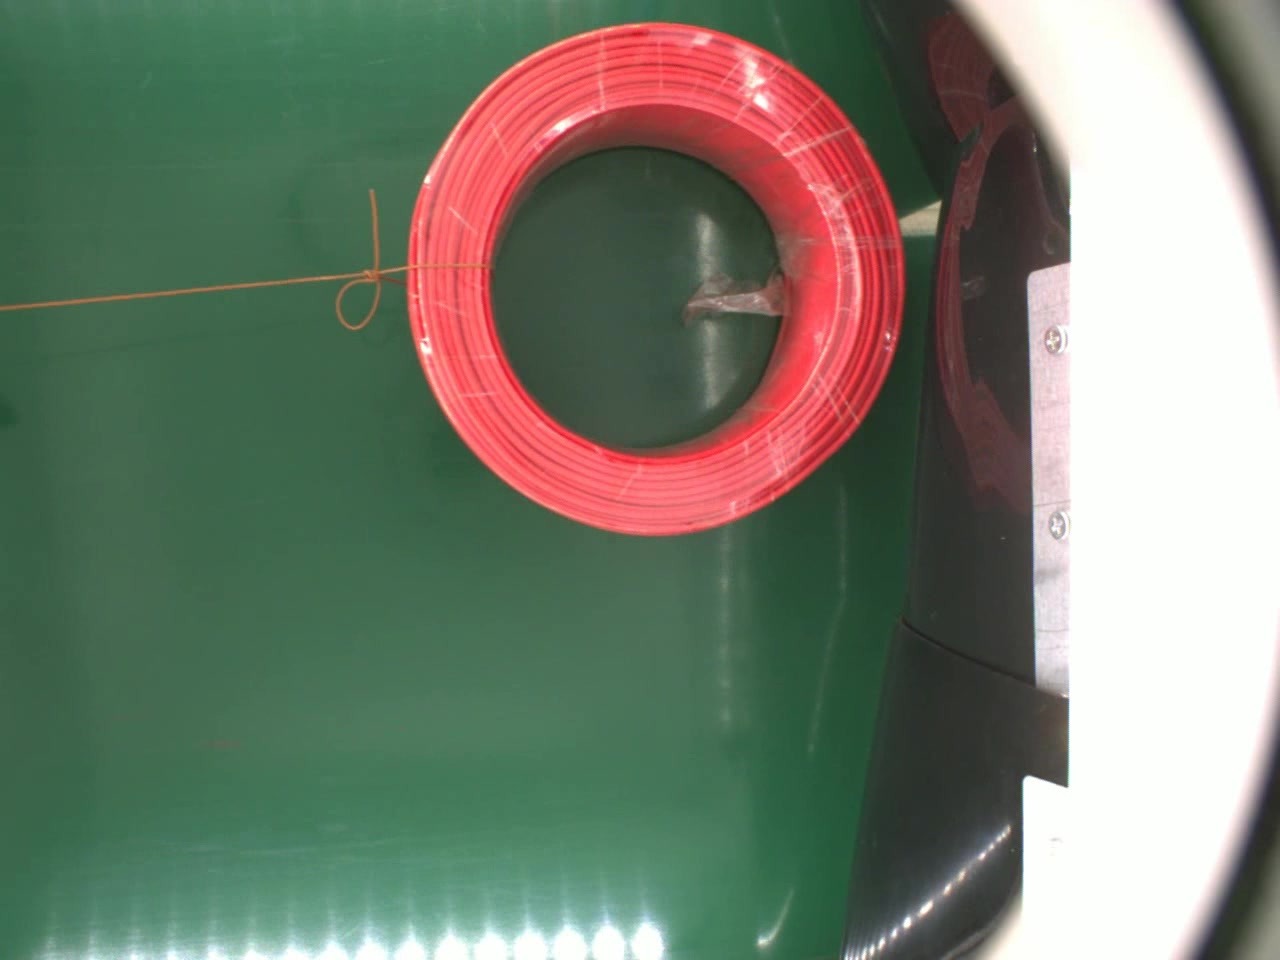red: (404, 16, 903, 547)
